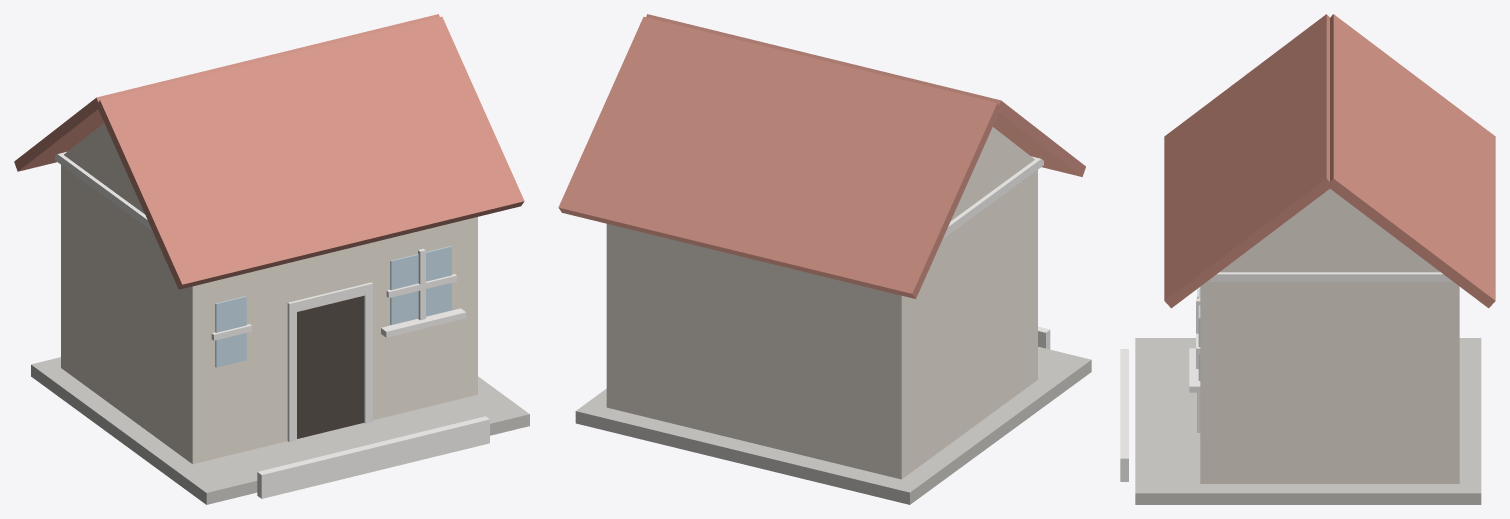
File: terrace-house.glb
3 renders of one model, left to right at view 1: azimuth 30°, elevation 25°; view 2: azimuth 150°, elevation 25°; view 3: azimuth 270°, elevation 25°, orthographic. The views are drawn at different scales.
Visible parts, largest first — view 1: TerraceHouse; view 2: TerraceHouse; view 3: TerraceHouse.
Boxes of the visible parts, box(x1,y1,x2,y2) form: TerraceHouse: box(14, 14, 529, 504); TerraceHouse: box(558, 14, 1091, 504); TerraceHouse: box(1120, 14, 1495, 504).
Bounding box in the file's own units: 1.8 × 1.69 × 1.74.
